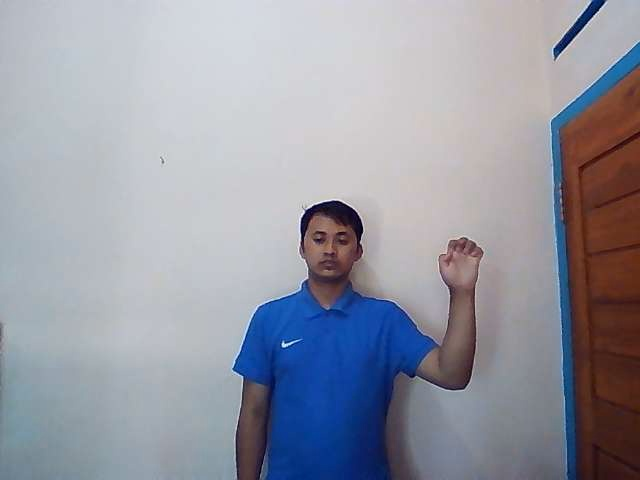E: (437, 236, 484, 289)
